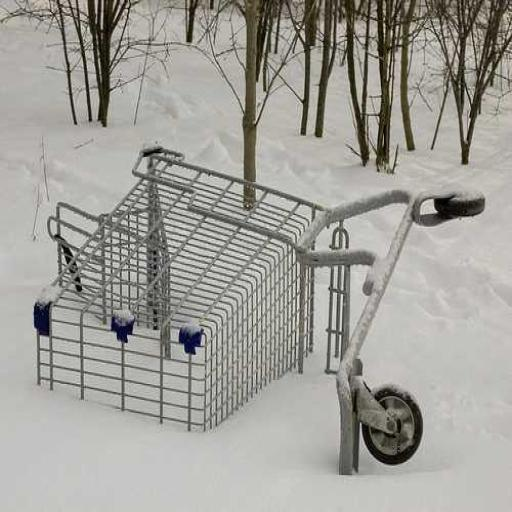shopping_cart: (30, 145, 492, 478)
